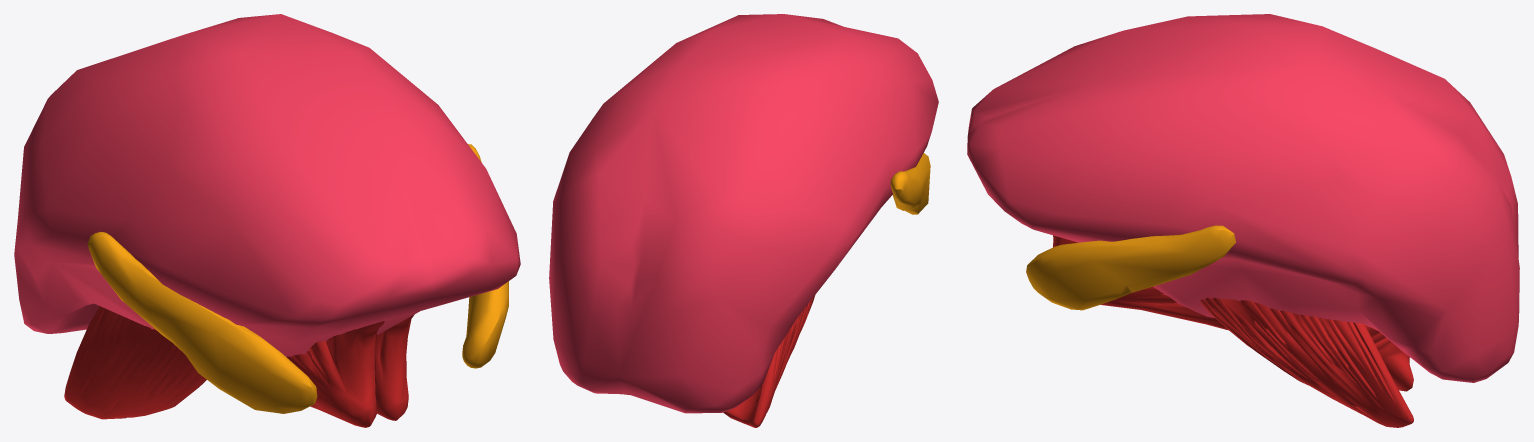
The model's file is tongue_original.glb.
3 renders of one model, left to right at view 1: azimuth 30°, elevation 25°; view 2: azimuth 150°, elevation 25°; view 3: azimuth 270°, elevation 25°, orthographic. The views are drawn at different scales.
Parts seen in each view (by area): view 1: Tongue, Right sublingual gland, Right hyoglossus, Right genioglossus, Left genioglossus, Left sublingual gland; view 2: Tongue, Right hyoglossus, Right sublingual gland; view 3: Tongue, Left hyoglossus, Left sublingual gland, Left genioglossus.
Boxes of the visible parts, x1,y1,x2,y2 form: Tongue: (14,14,520,356); Right sublingual gland: (87,232,317,413); Right hyoglossus: (64,306,206,419); Right genioglossus: (286,321,384,427); Left genioglossus: (374,314,414,420); Left sublingual gland: (462,144,508,368); Tongue: (549,14,938,413); Right hyoglossus: (723,295,815,427); Right sublingual gland: (890,153,930,214); Tongue: (967,14,1519,382); Left hyoglossus: (1200,297,1413,427); Left sublingual gland: (1026,225,1235,310); Left genioglossus: (1053,235,1413,391).
Size of the model in its own units: 0.0411 by 0.042 by 0.0594.
